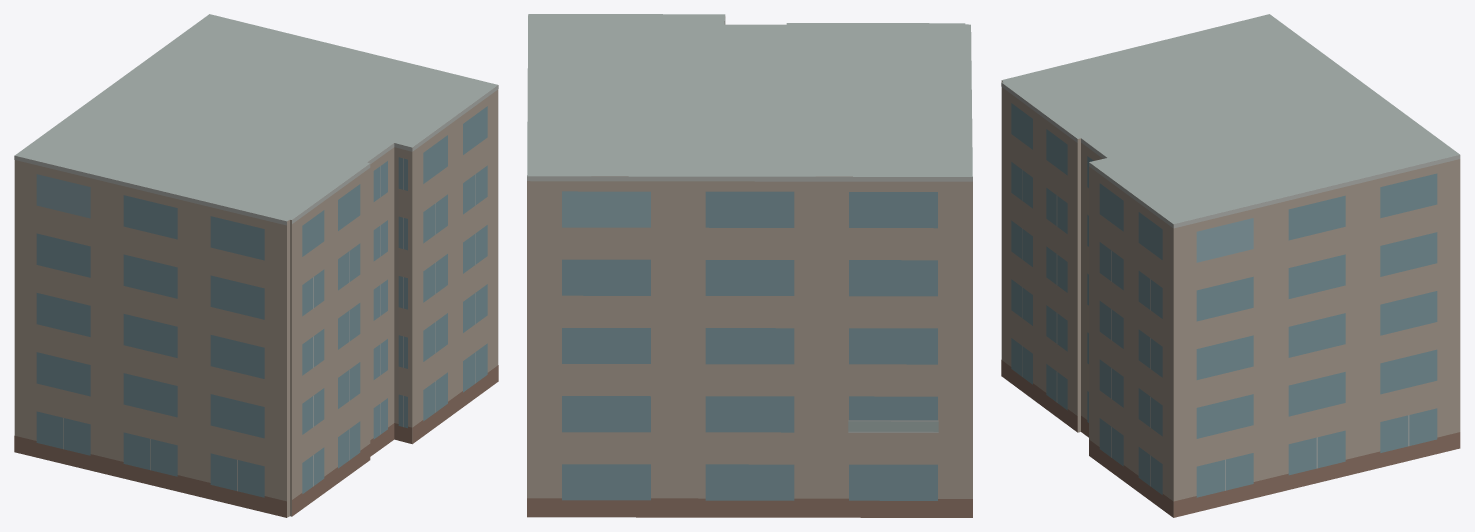
Rendered from survey-upis-32628510.glb.
The picture shows the model from 3 angles, left to right: view 1: azimuth 30°, elevation 25°; view 2: azimuth 150°, elevation 25°; view 3: azimuth 270°, elevation 25°; orthographic projection. The views are drawn at different scales.
Parts seen in each view (by area): view 1: survey-upis-32628510.tmp; view 2: survey-upis-32628510.tmp; view 3: survey-upis-32628510.tmp.
Boxes of the visible parts, x1,y1,x2,y2 form: survey-upis-32628510.tmp: [14, 14, 498, 517]; survey-upis-32628510.tmp: [527, 14, 972, 517]; survey-upis-32628510.tmp: [1001, 14, 1460, 517].
Size of the model in its own units: 26.43 by 17.2 by 24.37.
